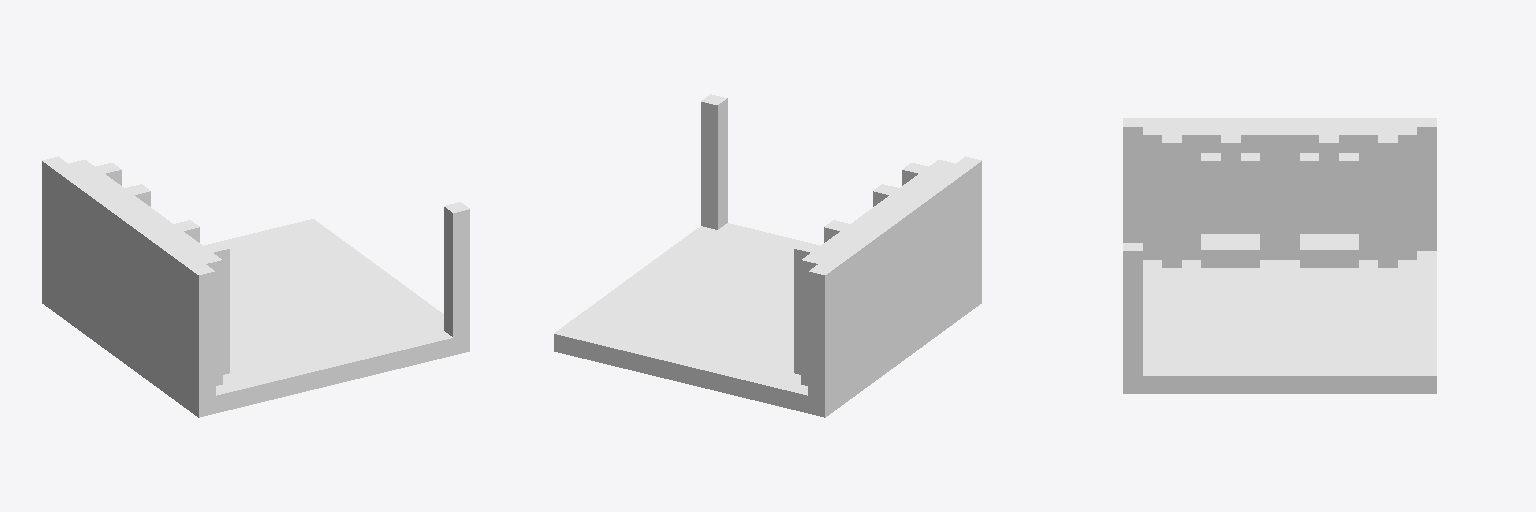
File: towar-24.obj
The picture shows the model from 3 angles: view 1: azimuth 30°, elevation 25°; view 2: azimuth 150°, elevation 25°; view 3: azimuth 270°, elevation 25°; orthographic projection.
Parts seen in each view (by area): view 1: towar-24; view 2: towar-24; view 3: towar-24.
Boxes of the visible parts, x1,y1,x2,y2 form: towar-24: [42, 156, 469, 417]; towar-24: [554, 94, 981, 417]; towar-24: [1123, 118, 1436, 393].
Size of the model in its own units: 16 by 8 by 16.